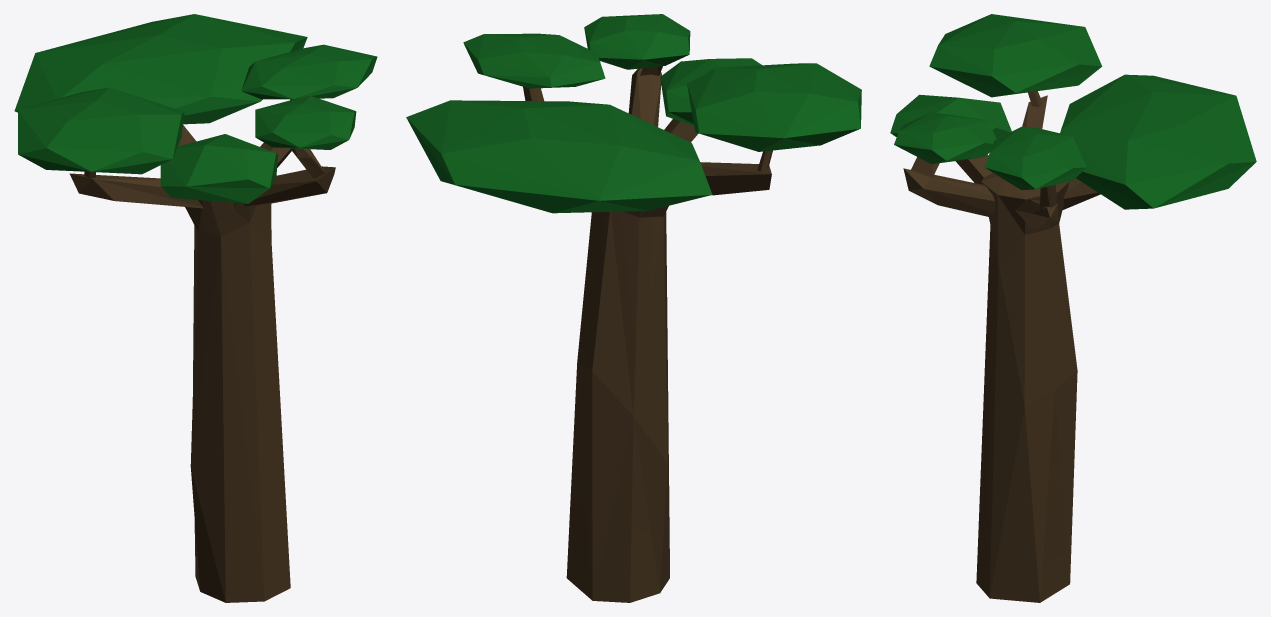
Rendered from BaobabTree.fbx.
3 views of the same model, side by side, from view 1: azimuth 30°, elevation 25°; view 2: azimuth 150°, elevation 25°; view 3: azimuth 270°, elevation 25° (orthographic). The views are drawn at different scales.
Visible parts, largest first — view 1: BaobabTree; view 2: BaobabTree; view 3: BaobabTree.
Boxes of the visible parts, left/top/right/bottom form: BaobabTree: left=14, top=14, right=377, bottom=602; BaobabTree: left=406, top=14, right=861, bottom=602; BaobabTree: left=890, top=14, right=1256, bottom=602.
Size of the model in its own units: 132 by 173 by 119.
